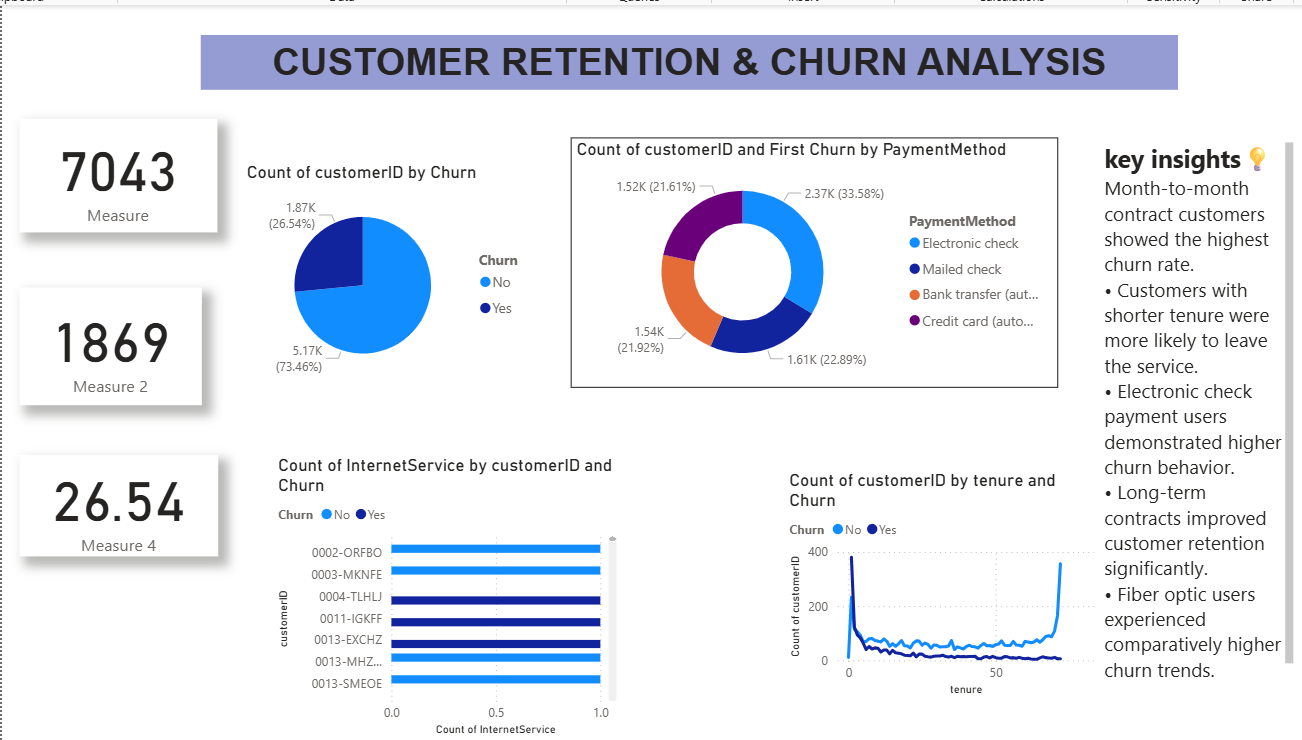

This screenshot's page, from the dashboard's own definition file:
{"tool":"powerbi","page":{"name":"Page 1","canvas":[1280,720],"ordinal":0},"visuals":[{"type":"card","fields":{"Values":["WA_Fn-UseC_-Telco-Customer-Churn.Measure"]},"box":[17.1,111.3,193.2,111.3],"z":0},{"type":"card","fields":{"Values":["WA_Fn-UseC_-Telco-Customer-Churn.Measure 2"]},"box":[17.1,276.4,178.5,114.9],"z":1000},{"type":"card","fields":{"Values":["WA_Fn-UseC_-Telco-Customer-Churn.Measure 4"]},"box":[17.1,440.2,194.4,99],"z":2000},{"type":"pieChart","fields":{"Category":["WA_Fn-UseC_-Telco-Customer-Churn.Churn"],"Y":["CountNonNull(WA_Fn-UseC_-Telco-Customer-Churn.customerID)"]},"box":[234.8,152.9,294.7,223.8],"z":3000},{"type":"donutChart","fields":{"Category":["WA_Fn-UseC_-Telco-Customer-Churn.PaymentMethod"],"Y":["CountNonNull(WA_Fn-UseC_-Telco-Customer-Churn.customerID)"]},"box":[556.4,129.6,476.9,244.6],"z":5000},{"type":"lineChart","fields":{"Category":["WA_Fn-UseC_-Telco-Customer-Churn.tenure"],"Y":["CountNonNull(WA_Fn-UseC_-Telco-Customer-Churn.customerID)"],"Series":["WA_Fn-UseC_-Telco-Customer-Churn.Churn"]},"box":[765.5,454.9,308.2,226.2],"z":6000},{"type":"clusteredBarChart","fields":{"Y":["CountNonNull(WA_Fn-UseC_-Telco-Customer-Churn.InternetService)"],"Category":["WA_Fn-UseC_-Telco-Customer-Churn.customerID"],"Series":["WA_Fn-UseC_-Telco-Customer-Churn.Churn"]},"box":[265.4,440.2,341.2,280],"z":7000},{"type":"textbox","box":[1073.6,129.6,194.4,536.8],"z":8000},{"type":"textbox","box":[194.4,29.3,956.3,53.8],"z":10000}]}

Visuals, with their boxes on the page's 1280x720 design canvas (x1, y1, x2, y2). These are canvas units, not pixel positions in the 1302x740 screenshot, which may show the page scaled, cropped or inside an application window:
card - WA_Fn-UseC_-Telco-Customer-Churn.Measure: 17,111,210,223
card - WA_Fn-UseC_-Telco-Customer-Churn.Measure 2: 17,276,196,391
card - WA_Fn-UseC_-Telco-Customer-Churn.Measure 4: 17,440,212,539
pieChart - WA_Fn-UseC_-Telco-Customer-Churn.Churn x CountNonNull(WA_Fn-UseC_-Telco-Customer-Churn.customerID): 235,153,530,377
donutChart - WA_Fn-UseC_-Telco-Customer-Churn.PaymentMethod x CountNonNull(WA_Fn-UseC_-Telco-Customer-Churn.customerID): 556,130,1033,374
lineChart - WA_Fn-UseC_-Telco-Customer-Churn.tenure x CountNonNull(WA_Fn-UseC_-Telco-Customer-Churn.customerID): 766,455,1074,681
clusteredBarChart - CountNonNull(WA_Fn-UseC_-Telco-Customer-Churn.InternetService) x WA_Fn-UseC_-Telco-Customer-Churn.customerID: 265,440,607,720
textbox: 1074,130,1268,666
textbox: 194,29,1151,83
